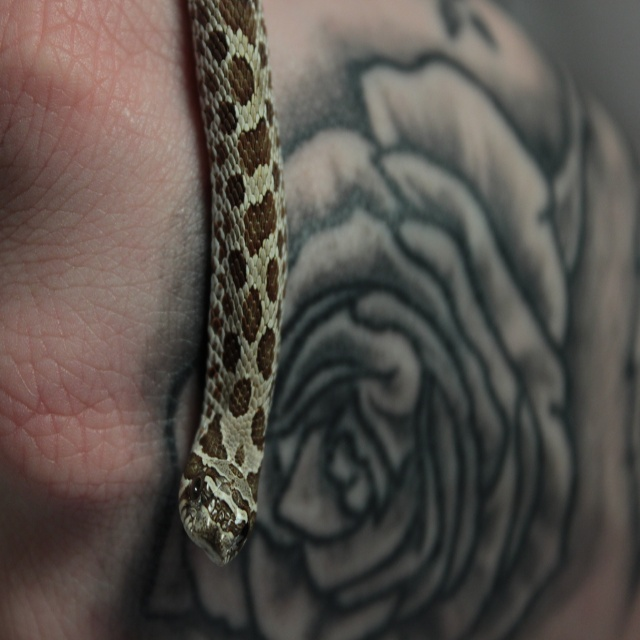Snake: (177, 2, 292, 565)
